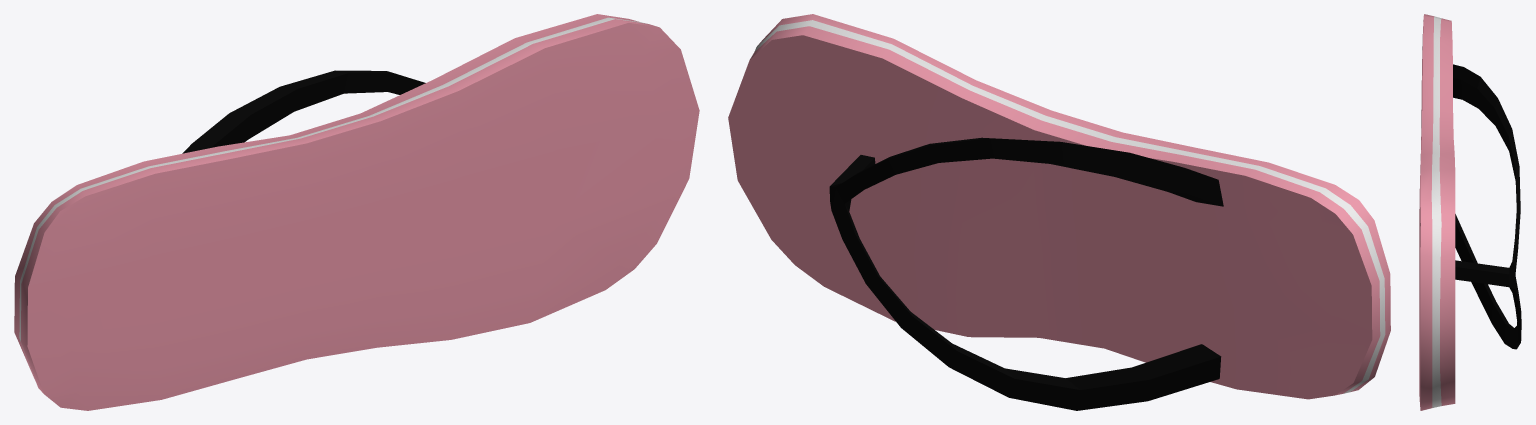
Rendered from FlipFlops.fbx.
3 renders of one model, left to right at view 1: azimuth 30°, elevation 25°; view 2: azimuth 150°, elevation 25°; view 3: azimuth 270°, elevation 25°, orthographic. The views are drawn at different scales.
Parts seen in each view (by area): view 1: FlipFlops; view 2: FlipFlops; view 3: FlipFlops.
Part boxes in pixels (left/top/right/bottom): FlipFlops: left=14, top=14, right=699, bottom=410; FlipFlops: left=728, top=14, right=1390, bottom=410; FlipFlops: left=1419, top=14, right=1521, bottom=410.
Bounding box in the file's own units: 303 × 130 × 47.87.
